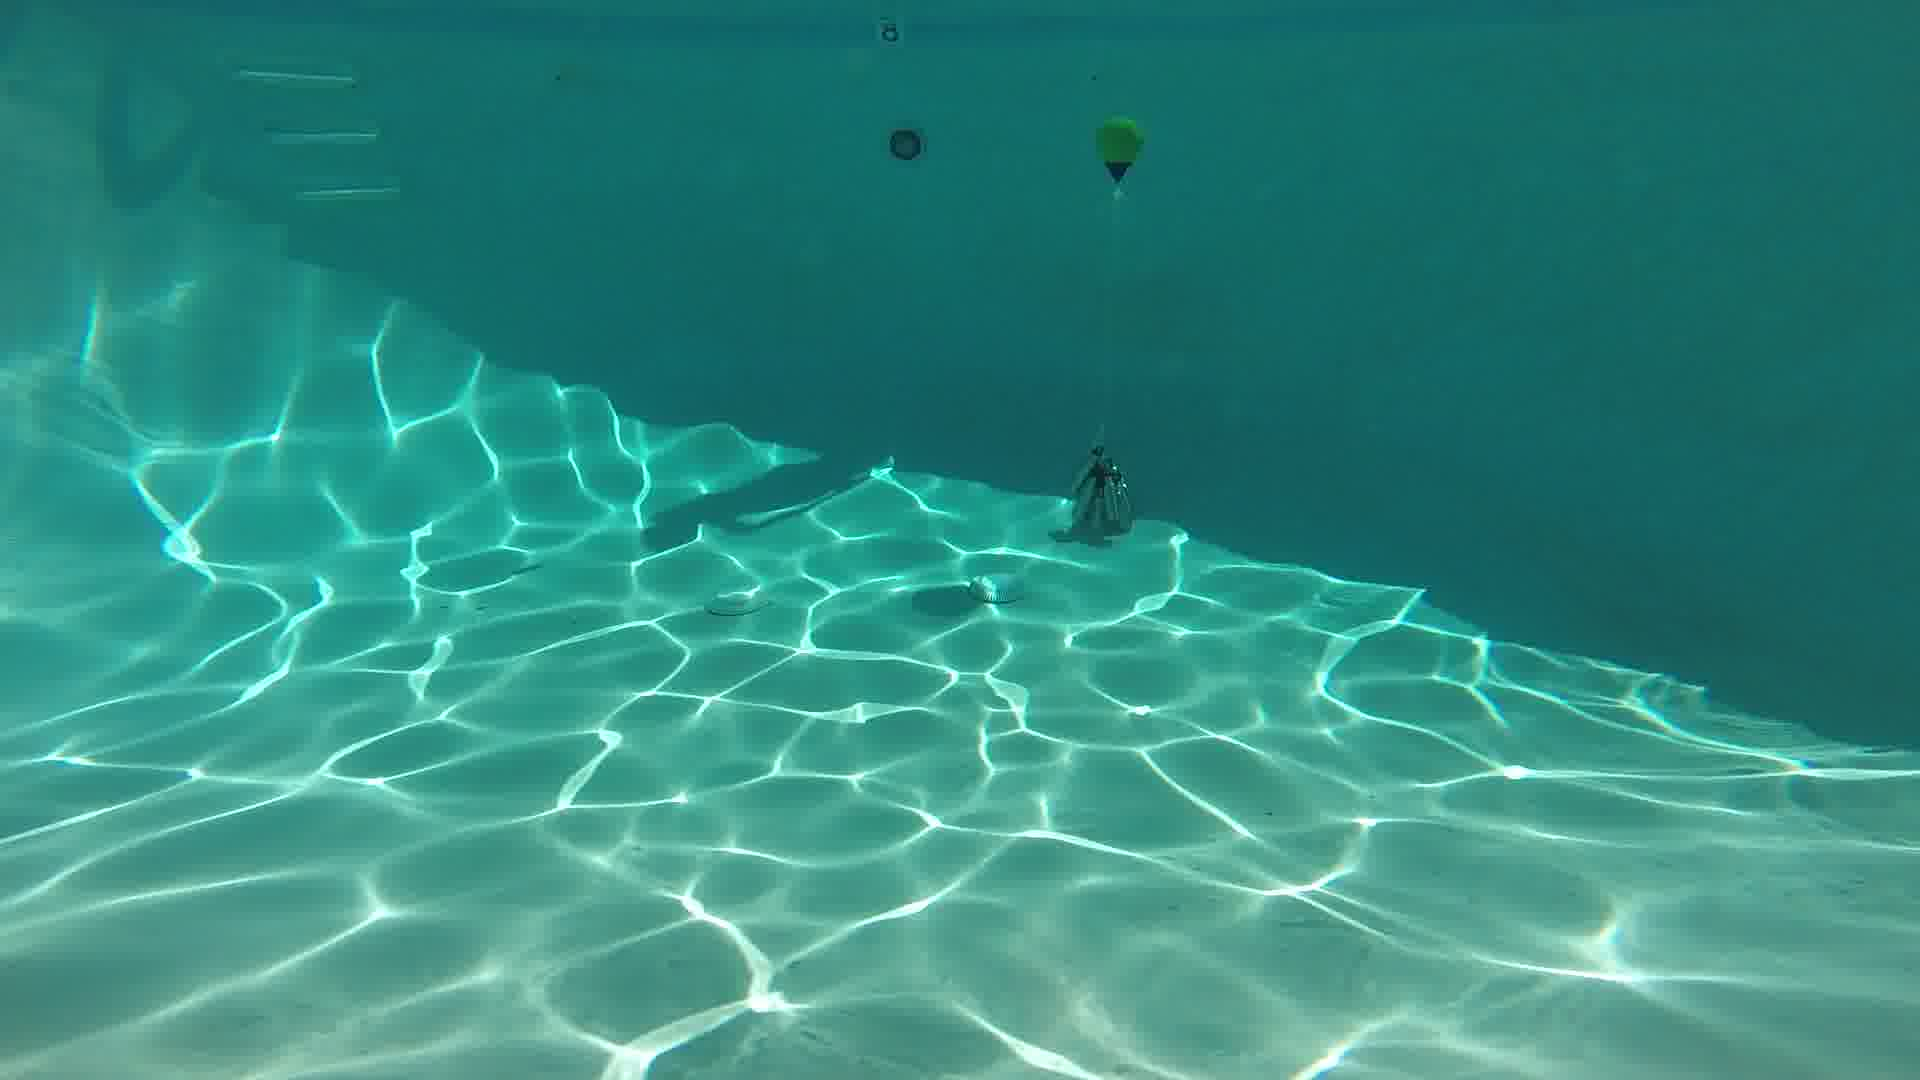yellow_buoy: (1096, 117, 1142, 185)
